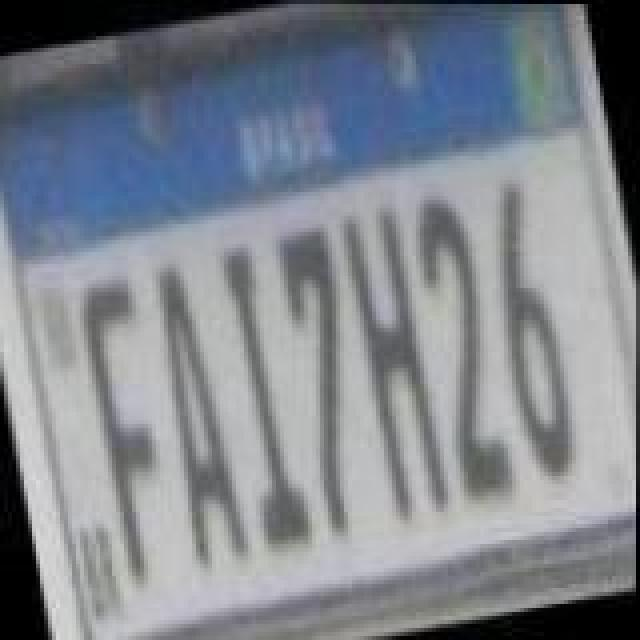2: (404, 188, 520, 500)
6: (470, 172, 582, 484)
7: (268, 218, 384, 538)
A: (142, 252, 258, 572)
F: (70, 270, 186, 586)
H: (336, 204, 452, 516)
I: (210, 238, 318, 550)
